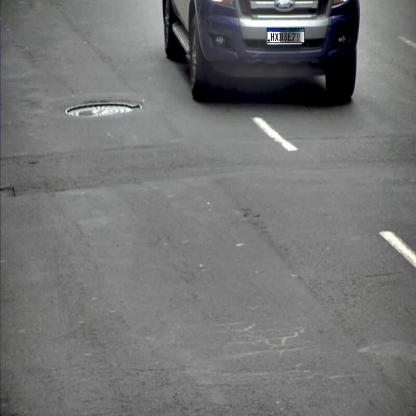PlacaM: (266, 28, 304, 43)
